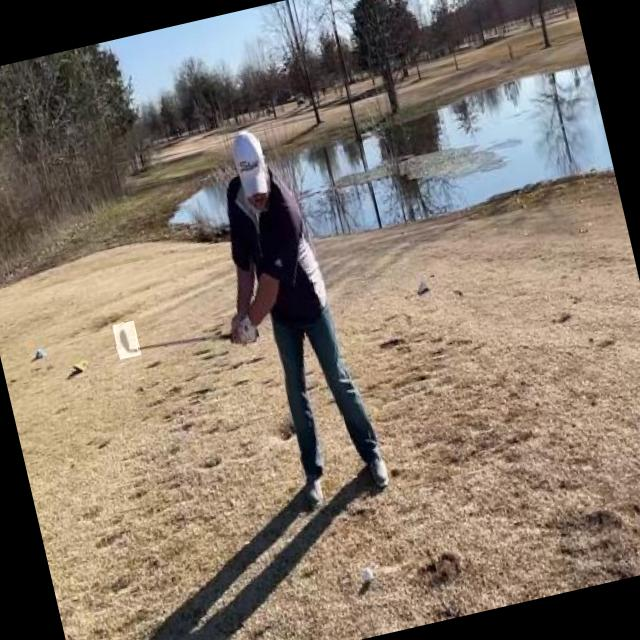club head: (112, 320, 141, 359)
